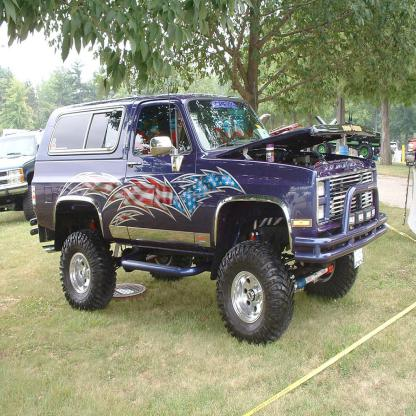Car: (29, 76, 389, 346)
